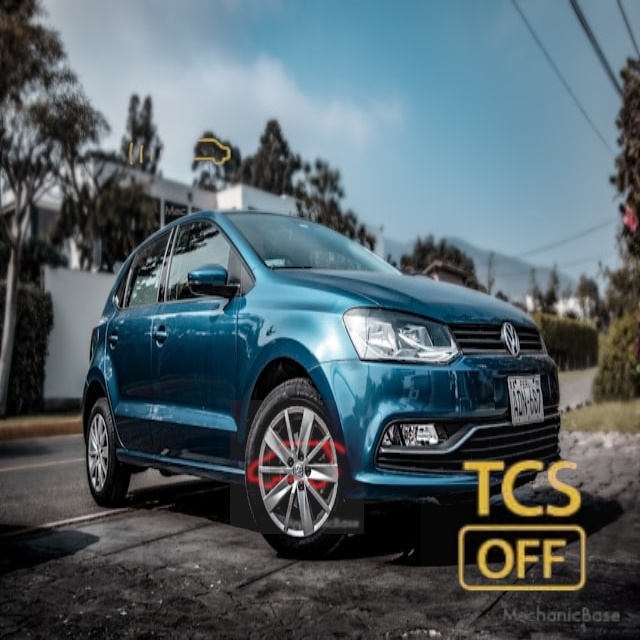symbol: (421, 425, 628, 632), (111, 86, 247, 222), (230, 400, 364, 534)
